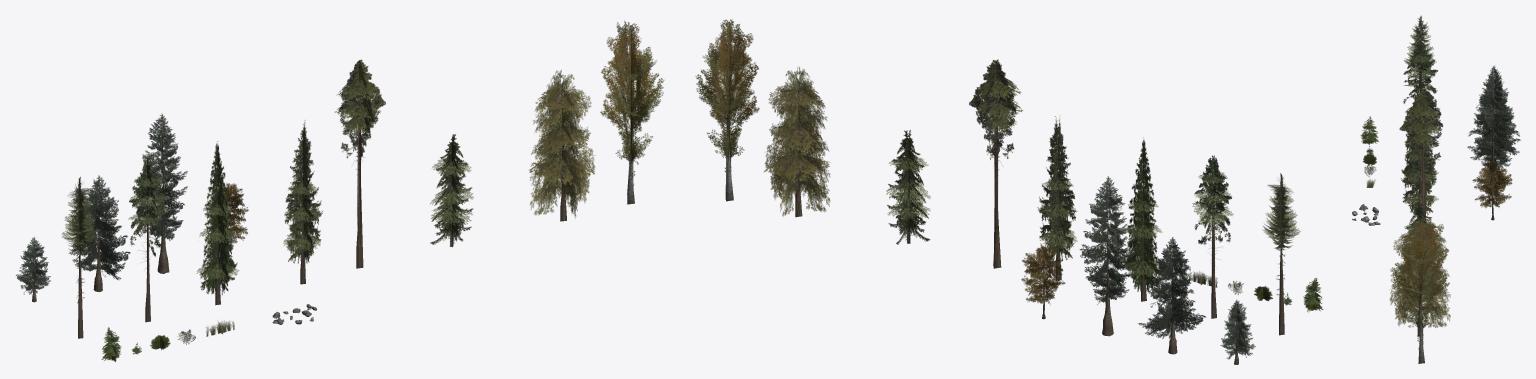
Rendered from Prado.glb.
The picture shows the model from 3 angles, left to right: view 1: azimuth 30°, elevation 25°; view 2: azimuth 150°, elevation 25°; view 3: azimuth 270°, elevation 25°; orthographic projection. The views are drawn at different scales.
Visible parts, largest first — view 1: Background_Tree_Atlas.004, Background_Tree_Atlas.001, Background_Tree_Atlas, Background_Tree_Atlas.005, Background_Tree_Atlas.003, Tree_Branches_01.002, Tree_Branches_01, Background_Tree_Atlas.002, Background_Tree_Atlas.007, Background_Tree_Atlas.006, Tree_Branches_01.001, Tree_Branches_02; view 2: Background_Tree_Atlas.004, Background_Tree_Atlas.001, Tree_Branches_01, Background_Tree_Atlas.005, Tree_Branches_01.002, Background_Tree_Atlas, Background_Tree_Atlas.003, Background_Tree_Atlas.002, Background_Tree_Atlas.007, Background_Tree_Atlas.006, Tree_Branches_02, Tree_Branches_01.001 (+1 smaller); view 3: Background_Tree_Atlas.001, Background_Tree_Atlas.004, Tree_Branches_01, Background_Tree_Atlas.005, Background_Tree_Atlas.003, Tree_Branches_01.002, Tree_Branches_02, Background_Tree_Atlas.007, Background_Tree_Atlas.006, Background_Tree_Atlas, Background_Tree_Atlas.002, Background_Tree_Atlas.009 (+1 smaller).
Part boxes in pixels (bbox=[...]): Background_Tree_Atlas.004: bbox=[528, 70, 595, 221]; Background_Tree_Atlas.001: bbox=[600, 20, 664, 204]; Background_Tree_Atlas: bbox=[197, 141, 238, 305]; Background_Tree_Atlas.005: bbox=[334, 59, 385, 268]; Background_Tree_Atlas.003: bbox=[283, 120, 322, 284]; Tree_Branches_01.002: bbox=[68, 175, 130, 279]; Tree_Branches_01: bbox=[139, 113, 187, 240]; Background_Tree_Atlas.002: bbox=[430, 134, 473, 247]; Background_Tree_Atlas.007: bbox=[128, 159, 168, 322]; Background_Tree_Atlas.006: bbox=[61, 176, 98, 338]; Tree_Branches_01.001: bbox=[15, 237, 50, 294]; Tree_Branches_02: bbox=[204, 183, 248, 243]; Background_Tree_Atlas.004: bbox=[764, 66, 830, 217]; Background_Tree_Atlas.001: bbox=[695, 19, 759, 201]; Tree_Branches_01: bbox=[1079, 176, 1135, 304]; Background_Tree_Atlas.005: bbox=[969, 59, 1022, 268]; Tree_Branches_01.002: bbox=[1138, 237, 1206, 339]; Background_Tree_Atlas: bbox=[1123, 137, 1162, 301]; Background_Tree_Atlas.003: bbox=[1037, 115, 1077, 280]; Background_Tree_Atlas.002: bbox=[886, 130, 930, 244]; Background_Tree_Atlas.007: bbox=[1192, 155, 1233, 318]; Background_Tree_Atlas.006: bbox=[1262, 173, 1300, 335]; Tree_Branches_02: bbox=[1021, 243, 1065, 304]; Tree_Branches_01.001: bbox=[1220, 300, 1255, 359]; Background_Tree_Atlas.001: bbox=[1390, 217, 1449, 363]; Background_Tree_Atlas.004: bbox=[1389, 214, 1450, 336]; Tree_Branches_01: bbox=[1473, 65, 1512, 167]; Background_Tree_Atlas.005: bbox=[1399, 89, 1443, 217]; Background_Tree_Atlas.003: bbox=[1401, 117, 1438, 215]; Tree_Branches_01.002: bbox=[1467, 81, 1520, 161]; Tree_Branches_02: bbox=[1472, 160, 1512, 208]; Background_Tree_Atlas.007: bbox=[1403, 40, 1437, 113]; Background_Tree_Atlas.006: bbox=[1404, 15, 1436, 80]; Background_Tree_Atlas: bbox=[1401, 69, 1438, 191]; Background_Tree_Atlas.002: bbox=[1401, 201, 1437, 284]; Background_Tree_Atlas.009: bbox=[1360, 116, 1378, 144].
Bounding box in the file's own units: 101 × 33.75 × 30.38.
6 materials, 6 textured.
